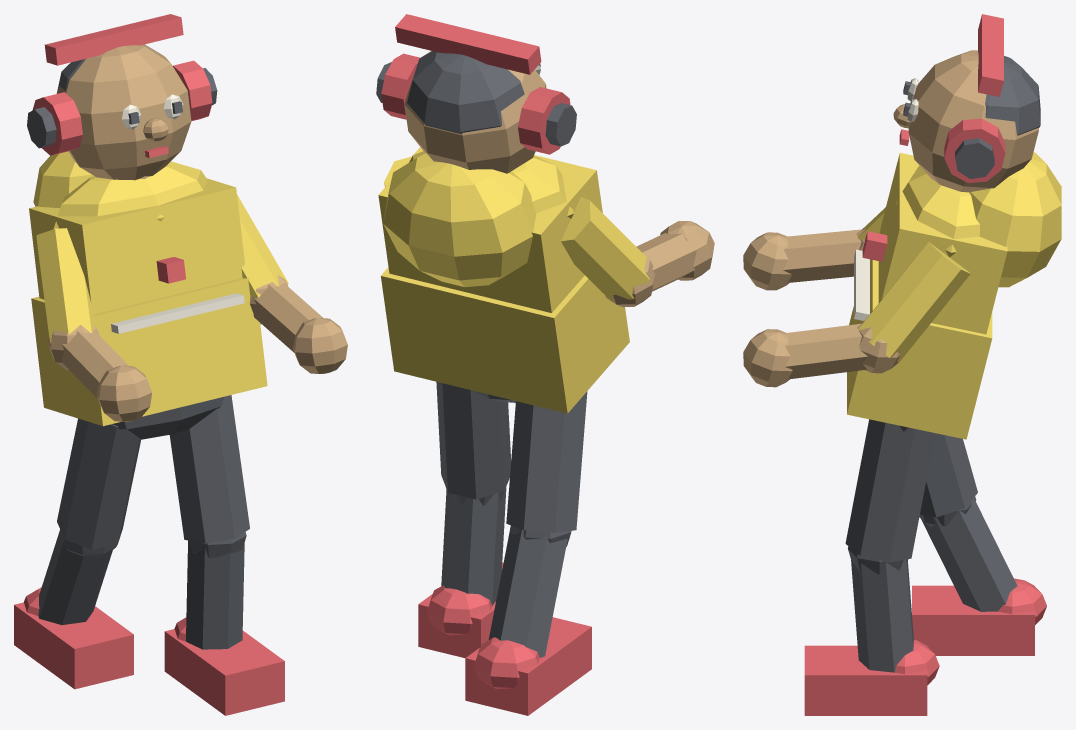
Rendered from lawn-mowing-simulator-kit-teen-with-headphones-slouche-c4c46320__27352.glb.
3 views of the same model, side by side, from view 1: azimuth 30°, elevation 25°; view 2: azimuth 150°, elevation 25°; view 3: azimuth 270°, elevation 25° (orthographic). The views are drawn at different scales.
Parts seen in each view (by area): view 1: teen-with-headphones-slouched; view 2: teen-with-headphones-slouched; view 3: teen-with-headphones-slouched.
Boxes of the visible parts, left/top/right/bottom form: teen-with-headphones-slouched: left=14, top=14, right=347, bottom=715; teen-with-headphones-slouched: left=376, top=14, right=714, bottom=715; teen-with-headphones-slouched: left=743, top=14, right=1061, bottom=715.
Bounding box in the file's own units: 0.7031 × 1.7 × 0.7778.
